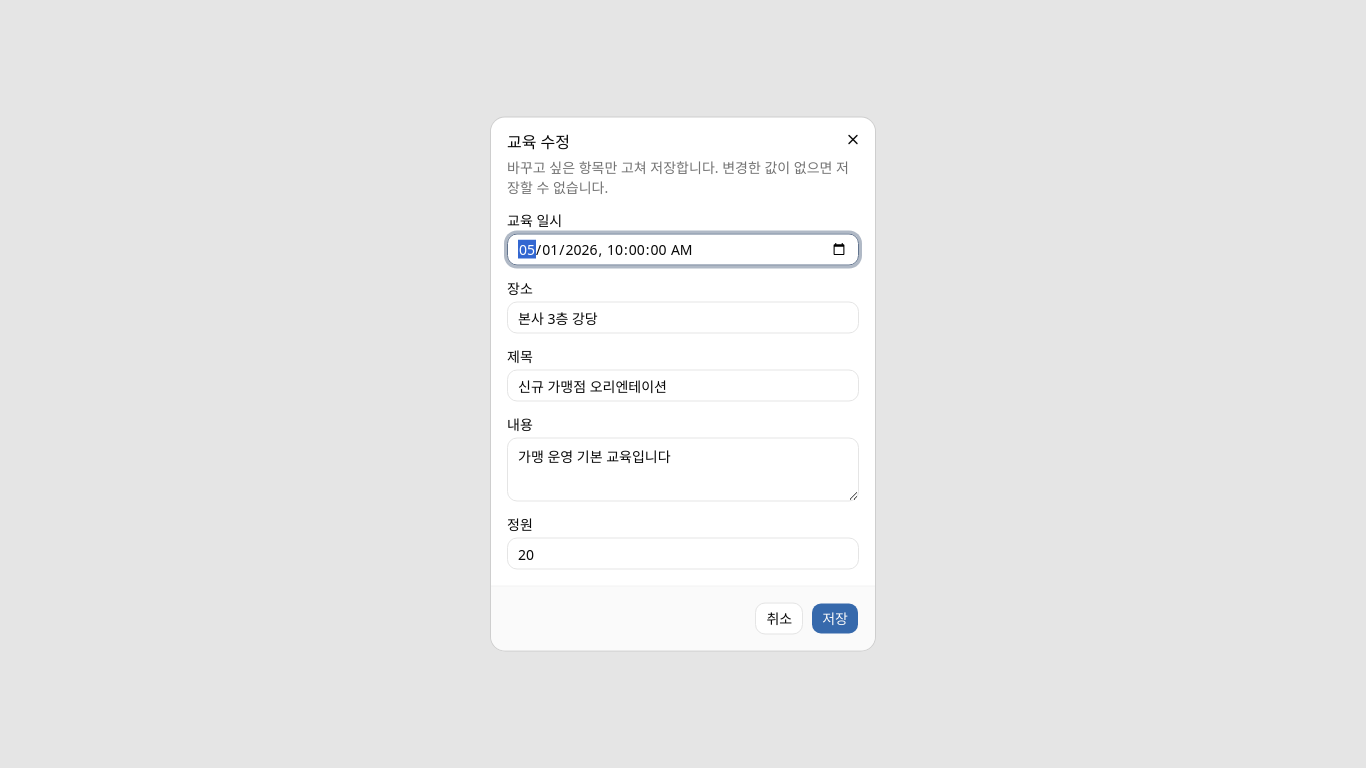
Test: FranchiseEducationUpdateDialog - zod 클라 사전검증 › 정원에 0을 입력하면 "정원은 양수여야 합니다" 에러를 노출하고 요청을 보내지 않는다
This screenshot has width=1366, height=768.
Replace the text in the number field labelled "정원" with "0" at (683, 554), box [507,538,859,570]
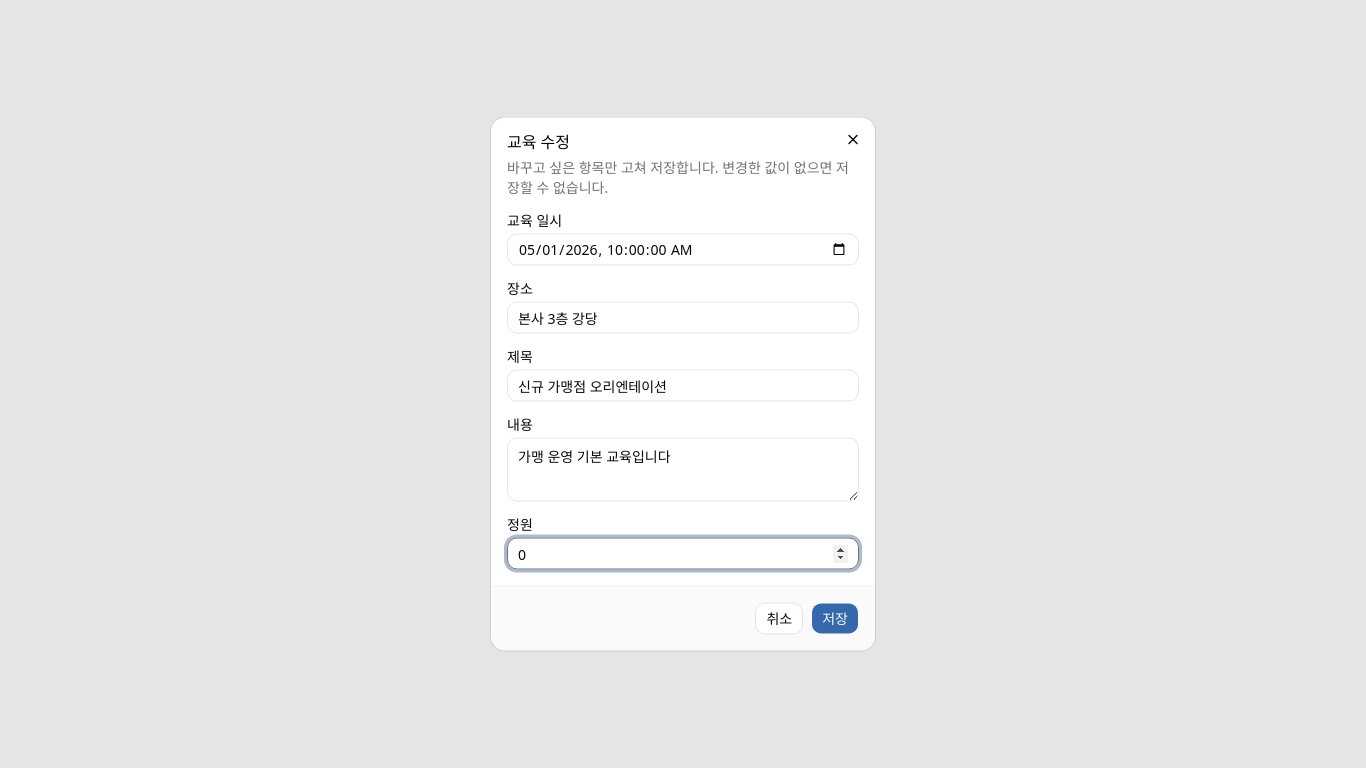
Click the button "저장" at (835, 618), box [811,602,859,634]
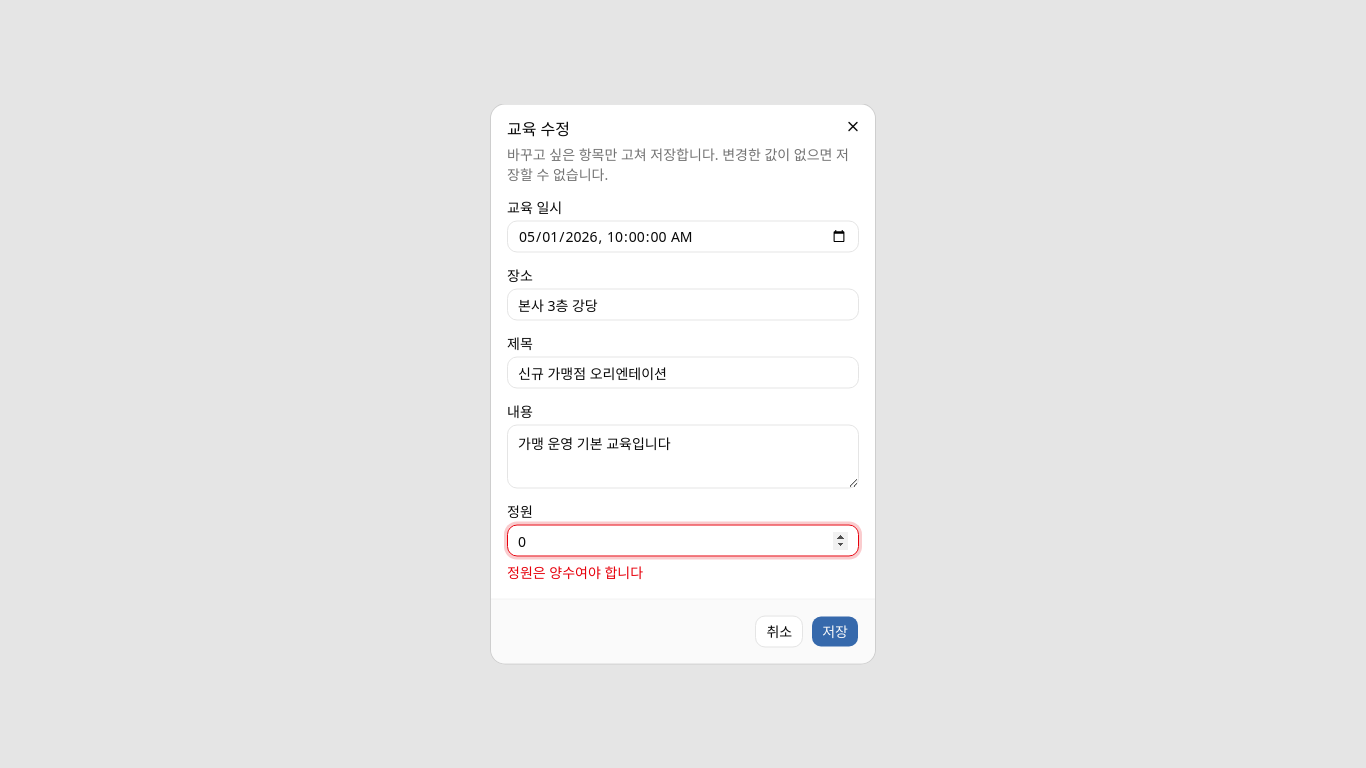
Now the text "정원은 양수여야 합니다" is shown, box [507,562,643,582]
